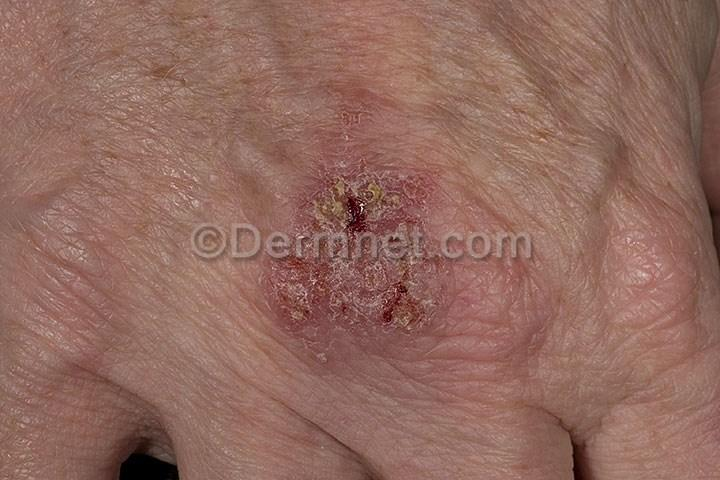Eczema: (255, 267, 469, 375), (261, 131, 457, 225)
